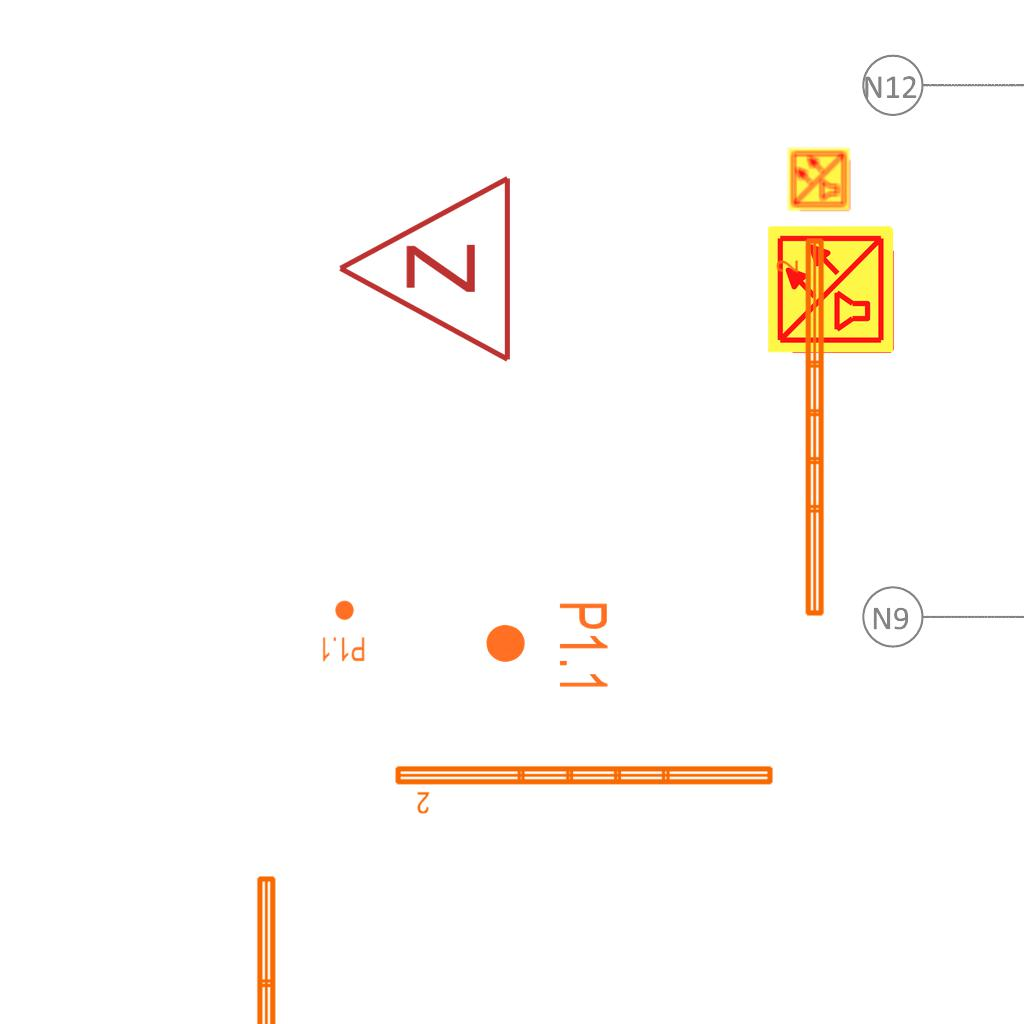Ambulanz_Pendelleuchte_LED: (391, 760, 778, 816), (774, 234, 830, 621), (251, 871, 307, 1024)
Downlight_LED_Einbauleuchten_Flur: (483, 600, 611, 693), (320, 599, 366, 663)
OKW_Multisensormelder_(Kombination_optischer_Rauch-Kahlenmonoxid_Waerme-Melder): (765, 223, 897, 355), (786, 146, 852, 212)
Zimmersignalleuchte: (325, 173, 525, 369)
